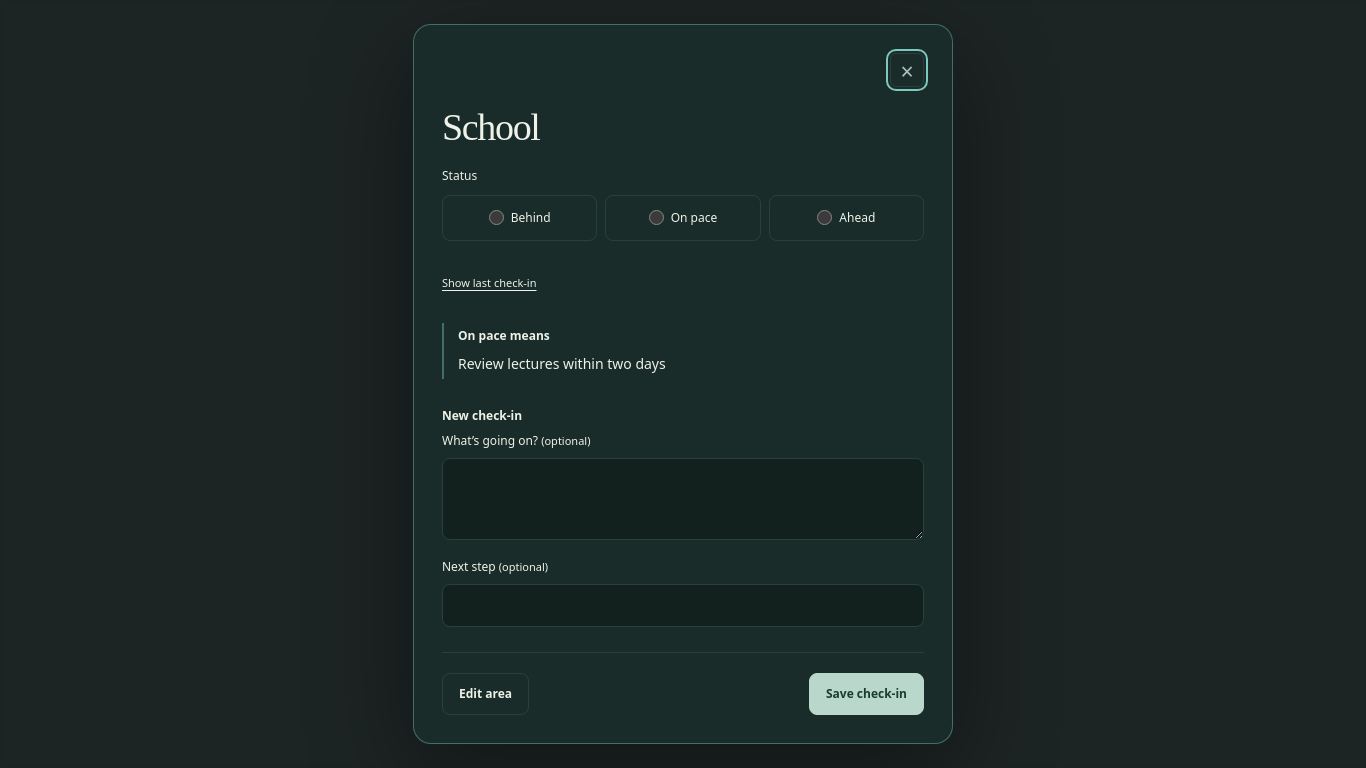
Test: keeps failed saves open and closing cancels the draft
The width and height of the screenshot is (1366, 768).
Later steps or results of the test are not shown.
Click the radio button labelled "On pace": (656, 218) [649,210,664,225]
(page scrolled)
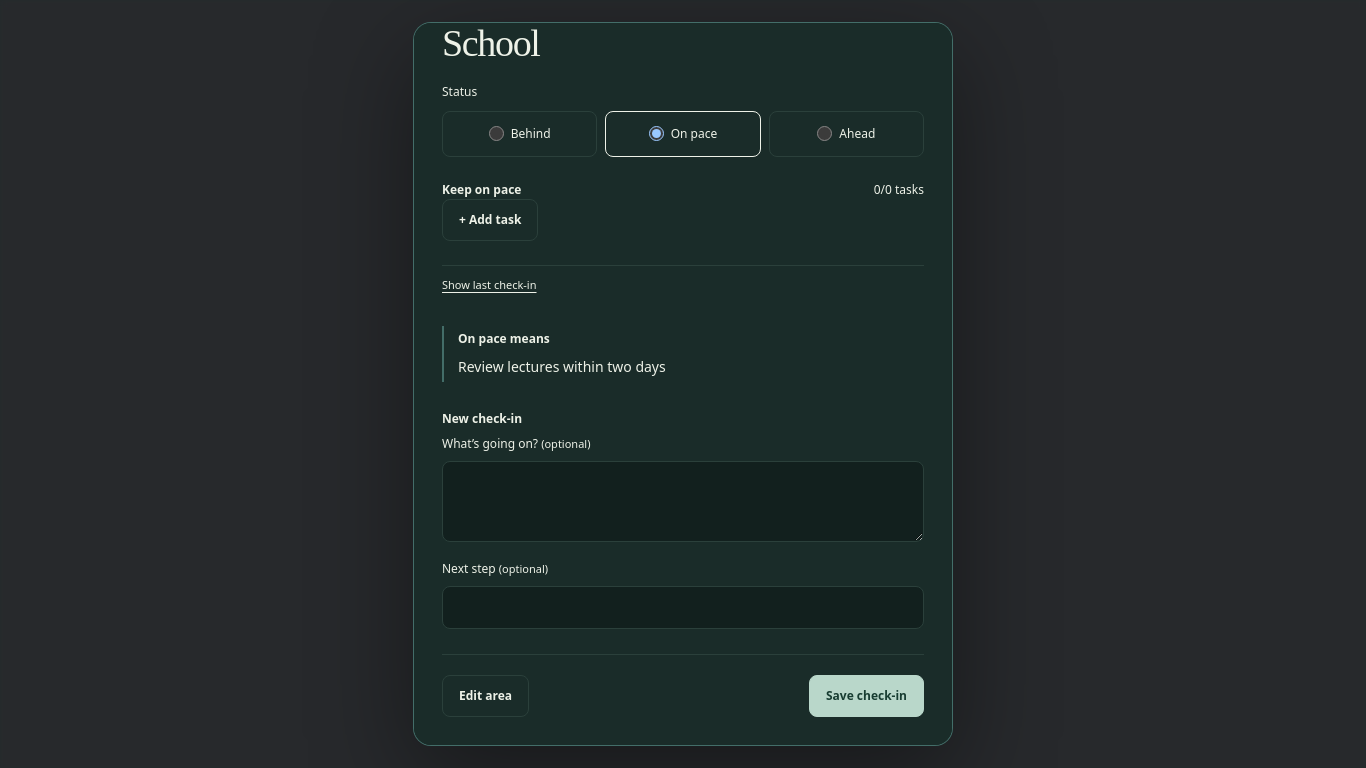
Click the button "Save check-in": (866, 696) [809,675,924,717]
(page scrolled)
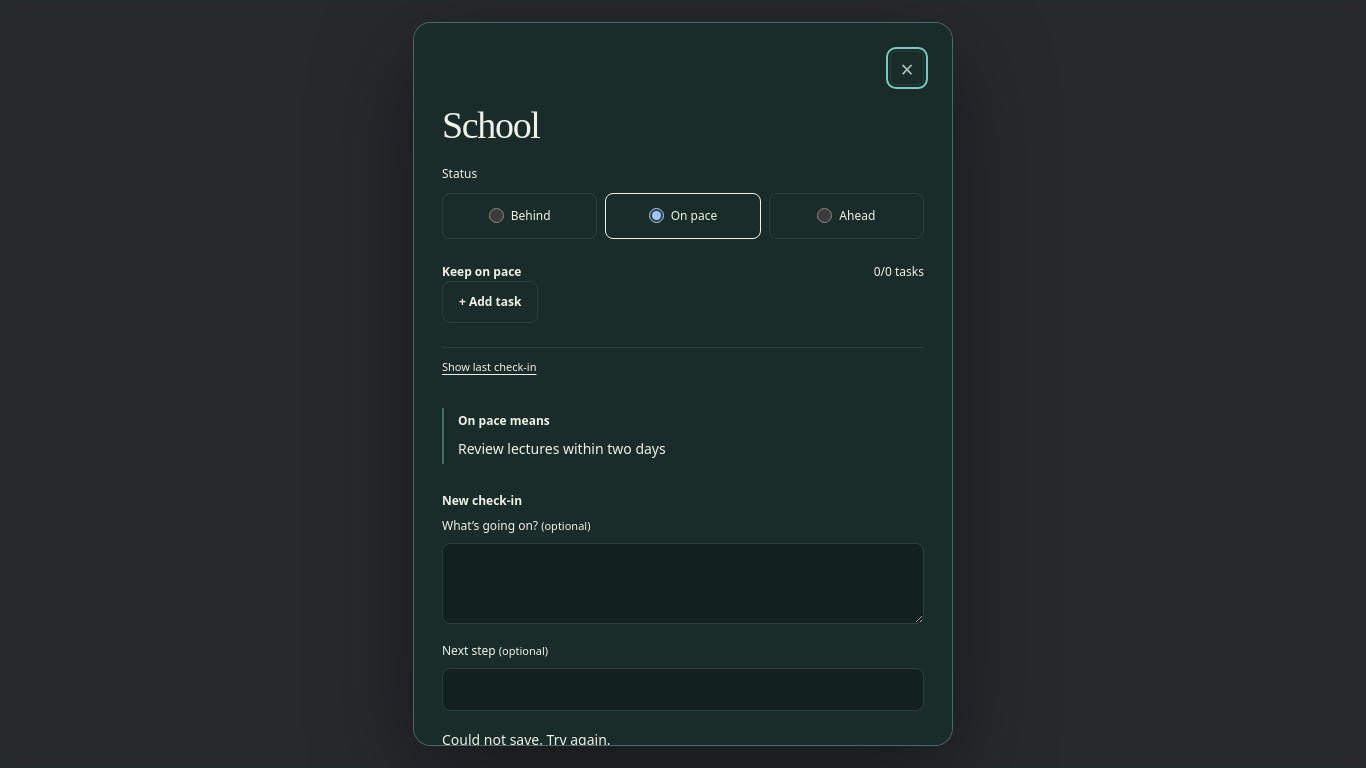
Expected: the message "Could not save. Try again." is shown, [442,730,611,746]
